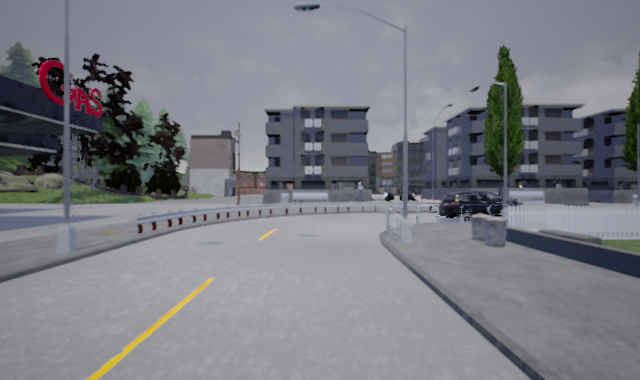pedestrian: (355, 179, 363, 202)
vehicle: (435, 191, 525, 219)
